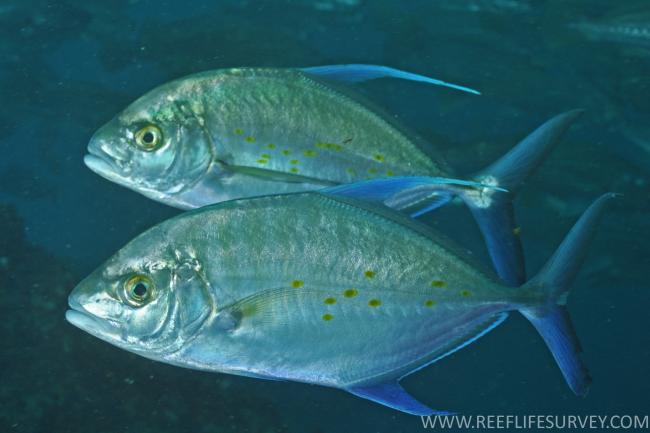fish: (67, 178, 620, 417), (80, 63, 587, 290)
